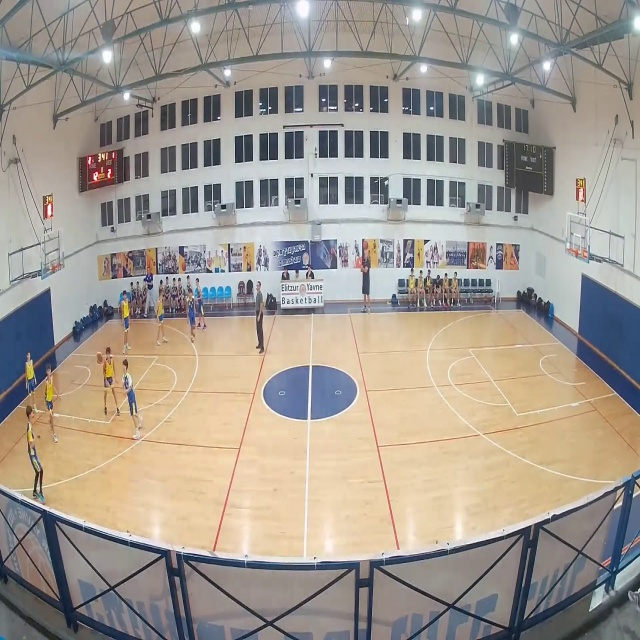Basketball: (96, 352, 104, 364)
